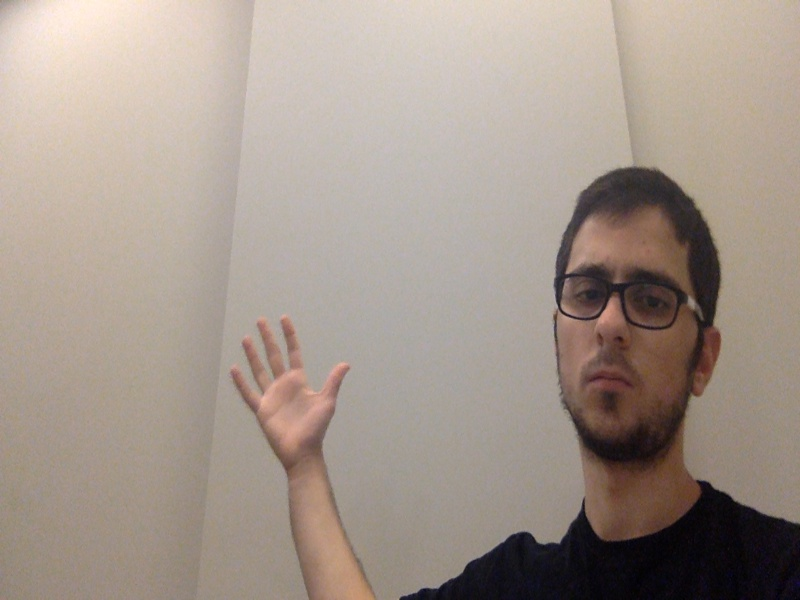5-hand: (230, 314, 350, 467)
